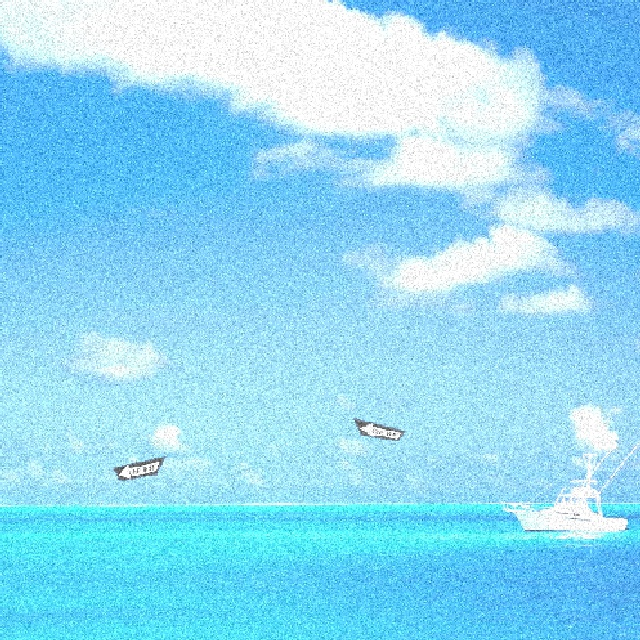ONE_WAY_ left: (111, 454, 165, 480), (351, 416, 405, 440)
